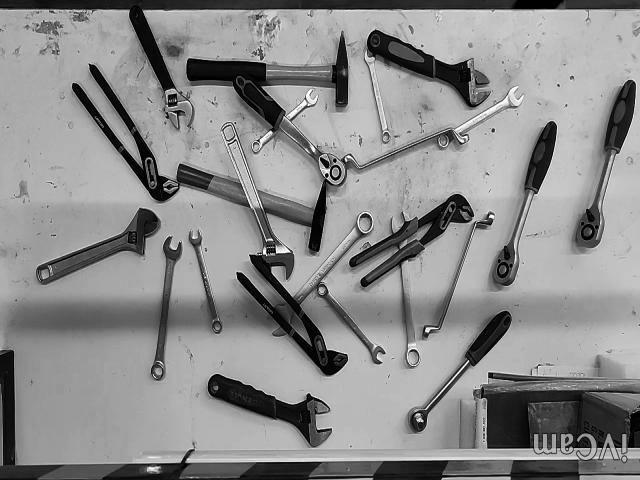Adjustable spanner: (221, 122, 294, 278), (368, 30, 491, 107), (36, 209, 160, 285), (208, 375, 332, 447), (130, 6, 195, 130)
Gas wrench: (72, 65, 179, 203), (236, 256, 348, 375), (350, 194, 474, 287)
Hammer: (178, 163, 328, 252), (186, 34, 349, 108)
Ratchet: (232, 76, 346, 187), (409, 312, 511, 433), (492, 122, 558, 287), (576, 80, 636, 248)
Wrench: (266, 212, 374, 338), (422, 212, 495, 340), (316, 283, 385, 365), (341, 127, 469, 170), (437, 88, 524, 149), (390, 210, 420, 368), (151, 238, 182, 380), (251, 88, 318, 153), (189, 231, 222, 333), (364, 50, 390, 143)
